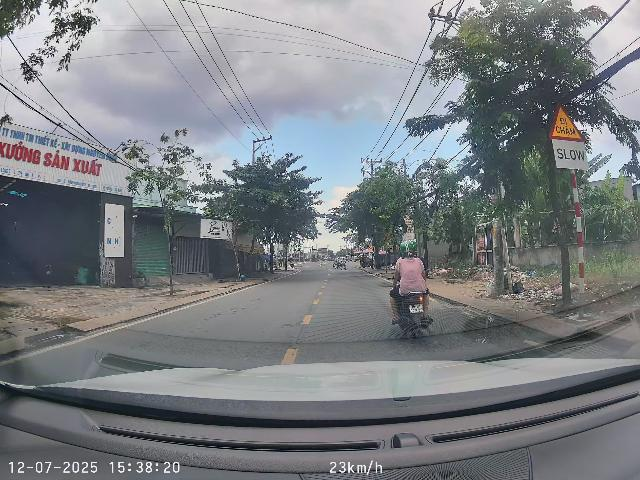245-di-cham: (549, 102, 584, 142)
